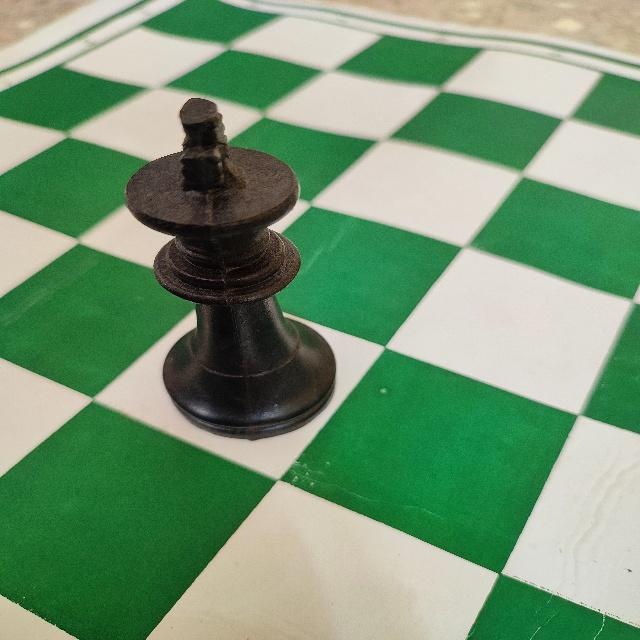King: (123, 93, 341, 440)
